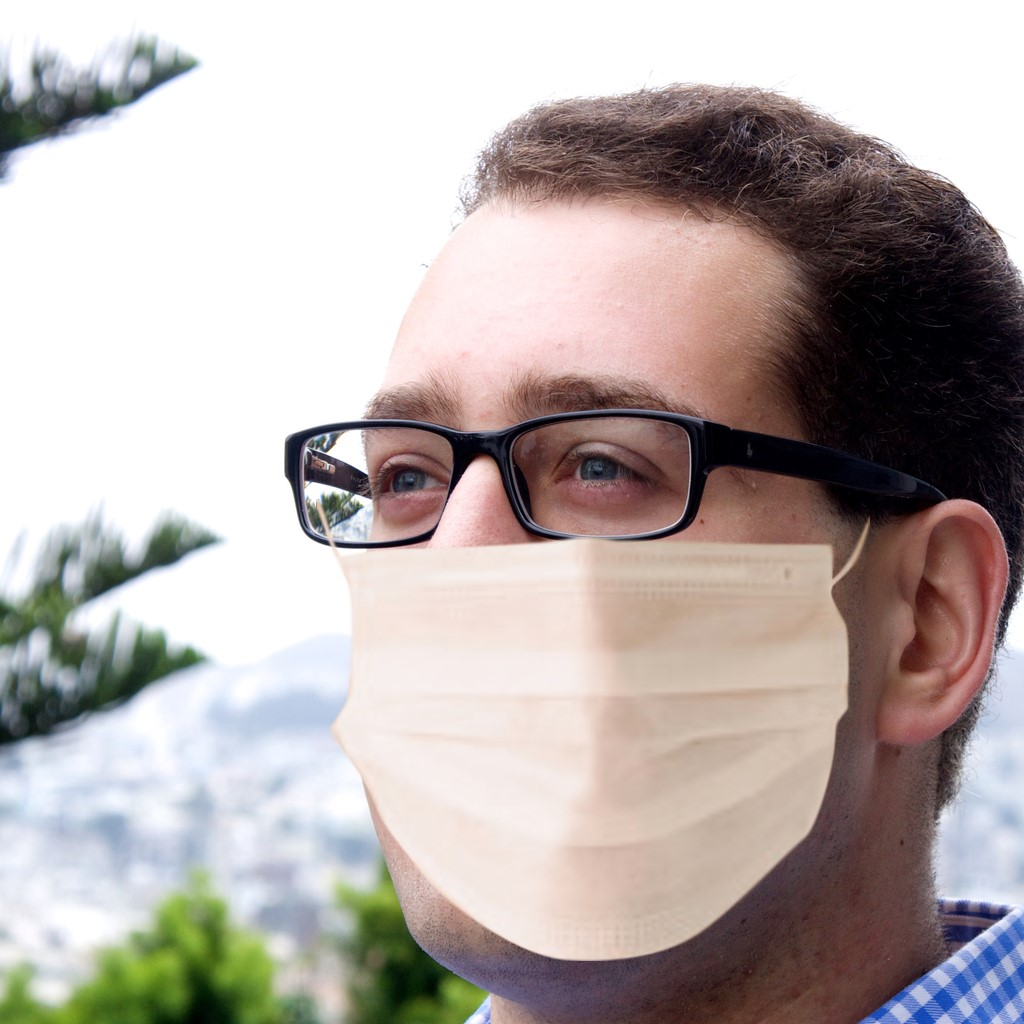con_mascara: (337, 162, 899, 975)
